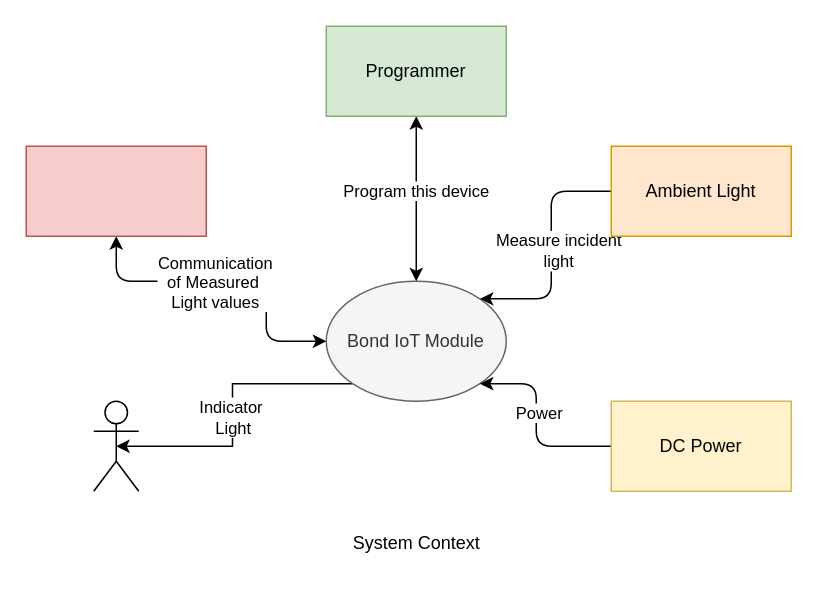
This 818x593 diagram has some shape labels left out. Here are the shapes that lost their labels. From the top down, the box of each, then its label:
(25, 145, 206, 236): MQTT Server
(92, 400, 139, 491): User
